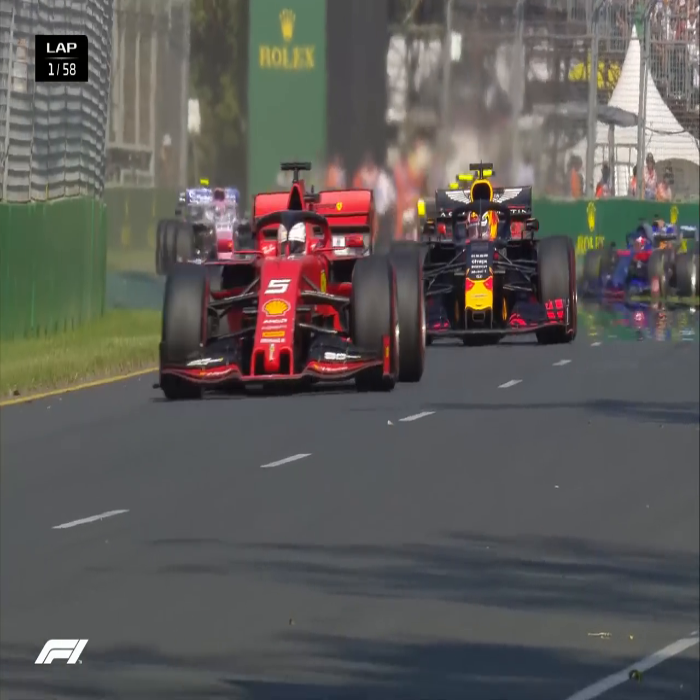f1_car: (155, 179, 425, 389), (389, 176, 586, 371)
